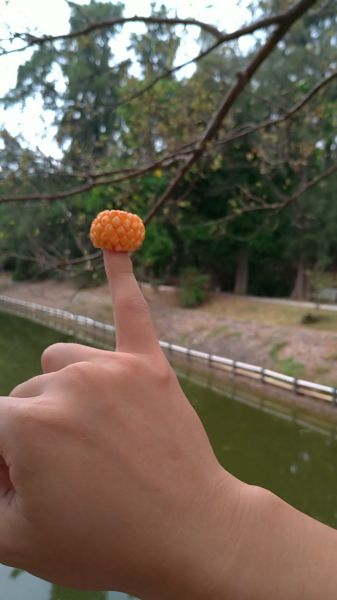eggs: (88, 207, 146, 253)
